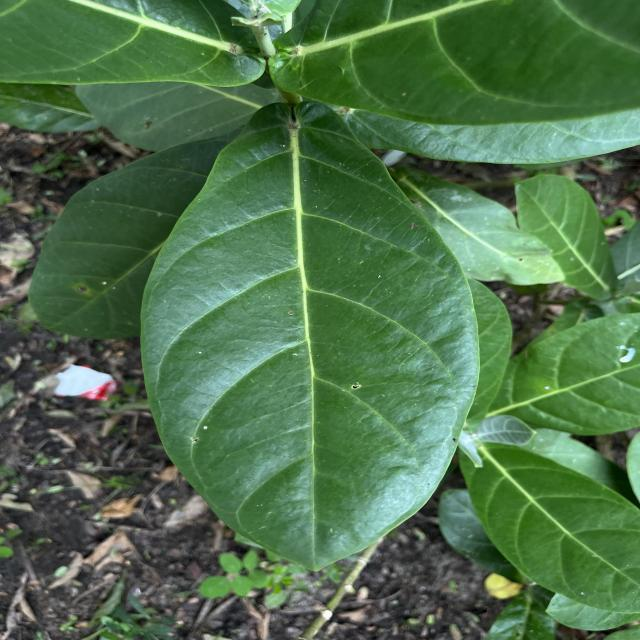Calotropis gigantea: (140, 122, 480, 576), (28, 127, 206, 344), (454, 444, 640, 616)
